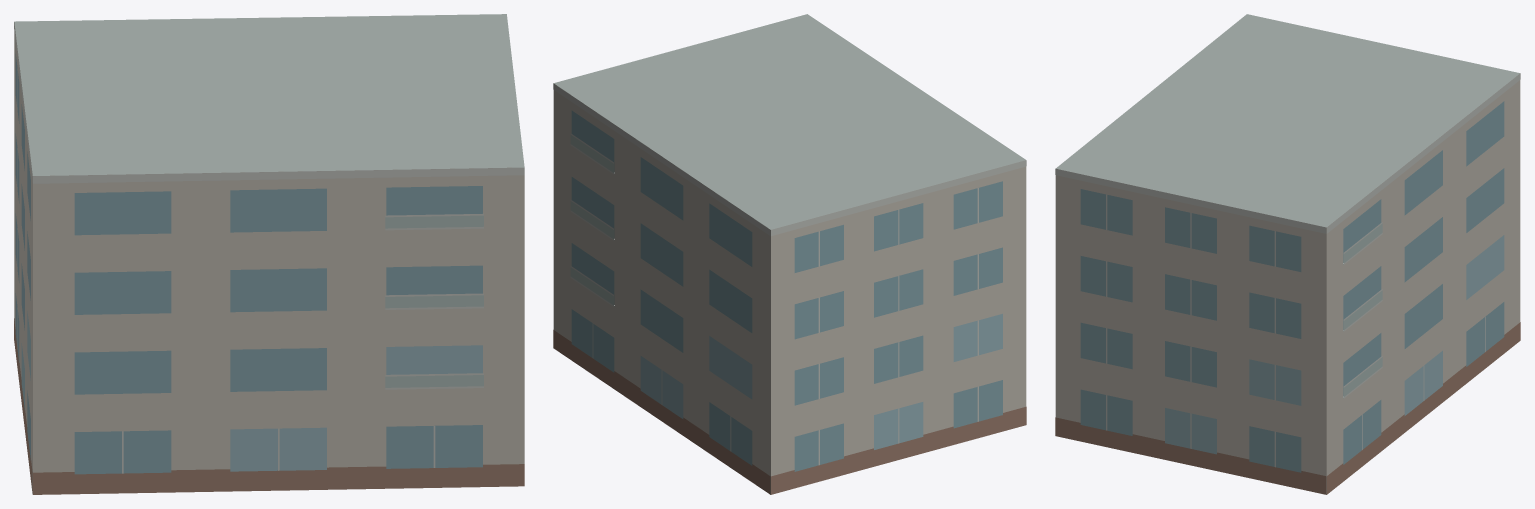
File: survey-upis-33023881.glb
3 views of the same model, side by side, from view 1: azimuth 30°, elevation 25°; view 2: azimuth 150°, elevation 25°; view 3: azimuth 270°, elevation 25° (orthographic). The views are drawn at different scales.
Parts seen in each view (by area): view 1: survey-upis-33023881.tmp; view 2: survey-upis-33023881.tmp; view 3: survey-upis-33023881.tmp.
Part boxes in pixels (left/top/right/bottom): survey-upis-33023881.tmp: left=14, top=14, right=524, bottom=494; survey-upis-33023881.tmp: left=553, top=14, right=1026, bottom=494; survey-upis-33023881.tmp: left=1055, top=14, right=1520, bottom=494.
Size of the model in its own units: 17.3 by 10.1 by 15.93.
